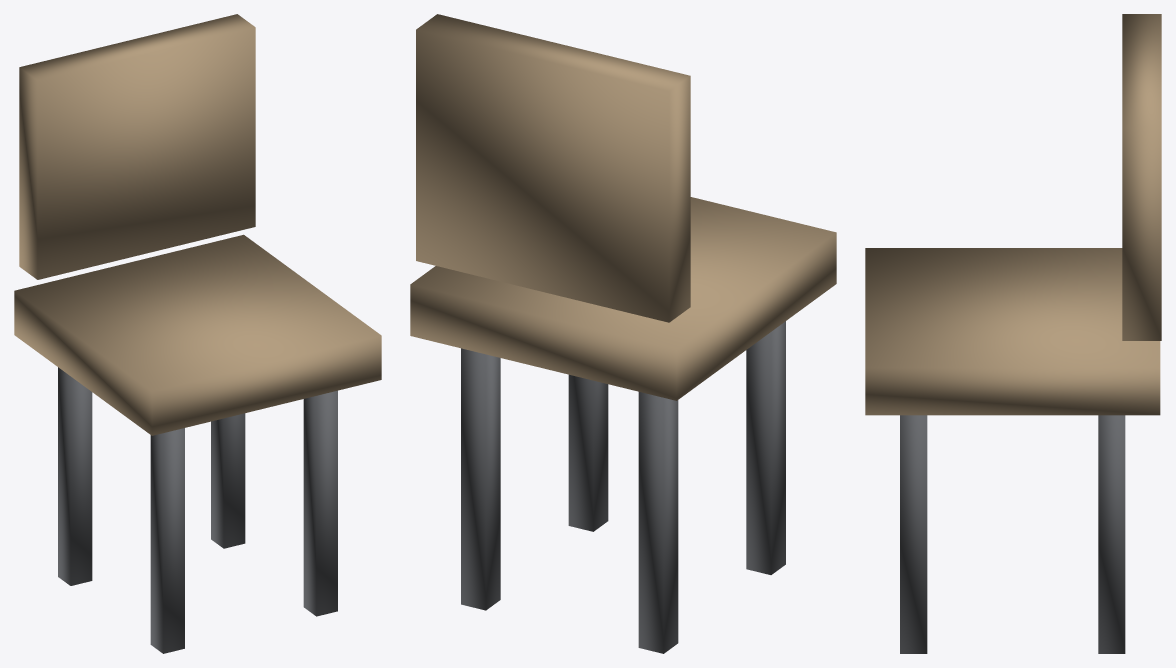
Rendered from school_chair__compact.glb.
The picture shows the model from 3 angles, left to right: view 1: azimuth 30°, elevation 25°; view 2: azimuth 150°, elevation 25°; view 3: azimuth 270°, elevation 25°; orthographic projection. The views are drawn at different scales.
Parts seen in each view (by area): view 1: world; view 2: world; view 3: world.
Part boxes in pixels (left/top/right/bottom): world: left=14, top=14, right=381, bottom=653; world: left=410, top=14, right=836, bottom=653; world: left=865, top=14, right=1161, bottom=653.
Bounding box in the file's own units: 0.4035 × 0.8437 × 0.4216.
